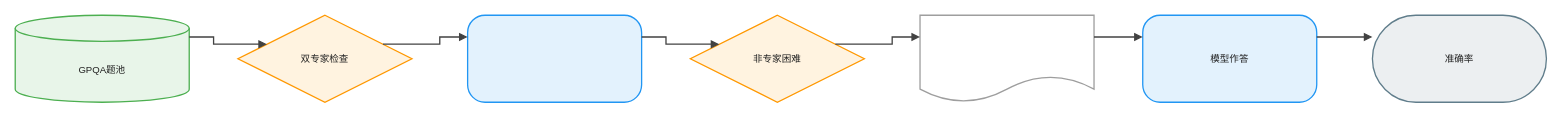
Some shapes in this 1563 by 118 pixel diagram are drawn without their labels. Each missing label, with the centre of its shape:
"198钻石题" goes at (x=1006, y=58).
"错误复核" goes at (x=554, y=58).
